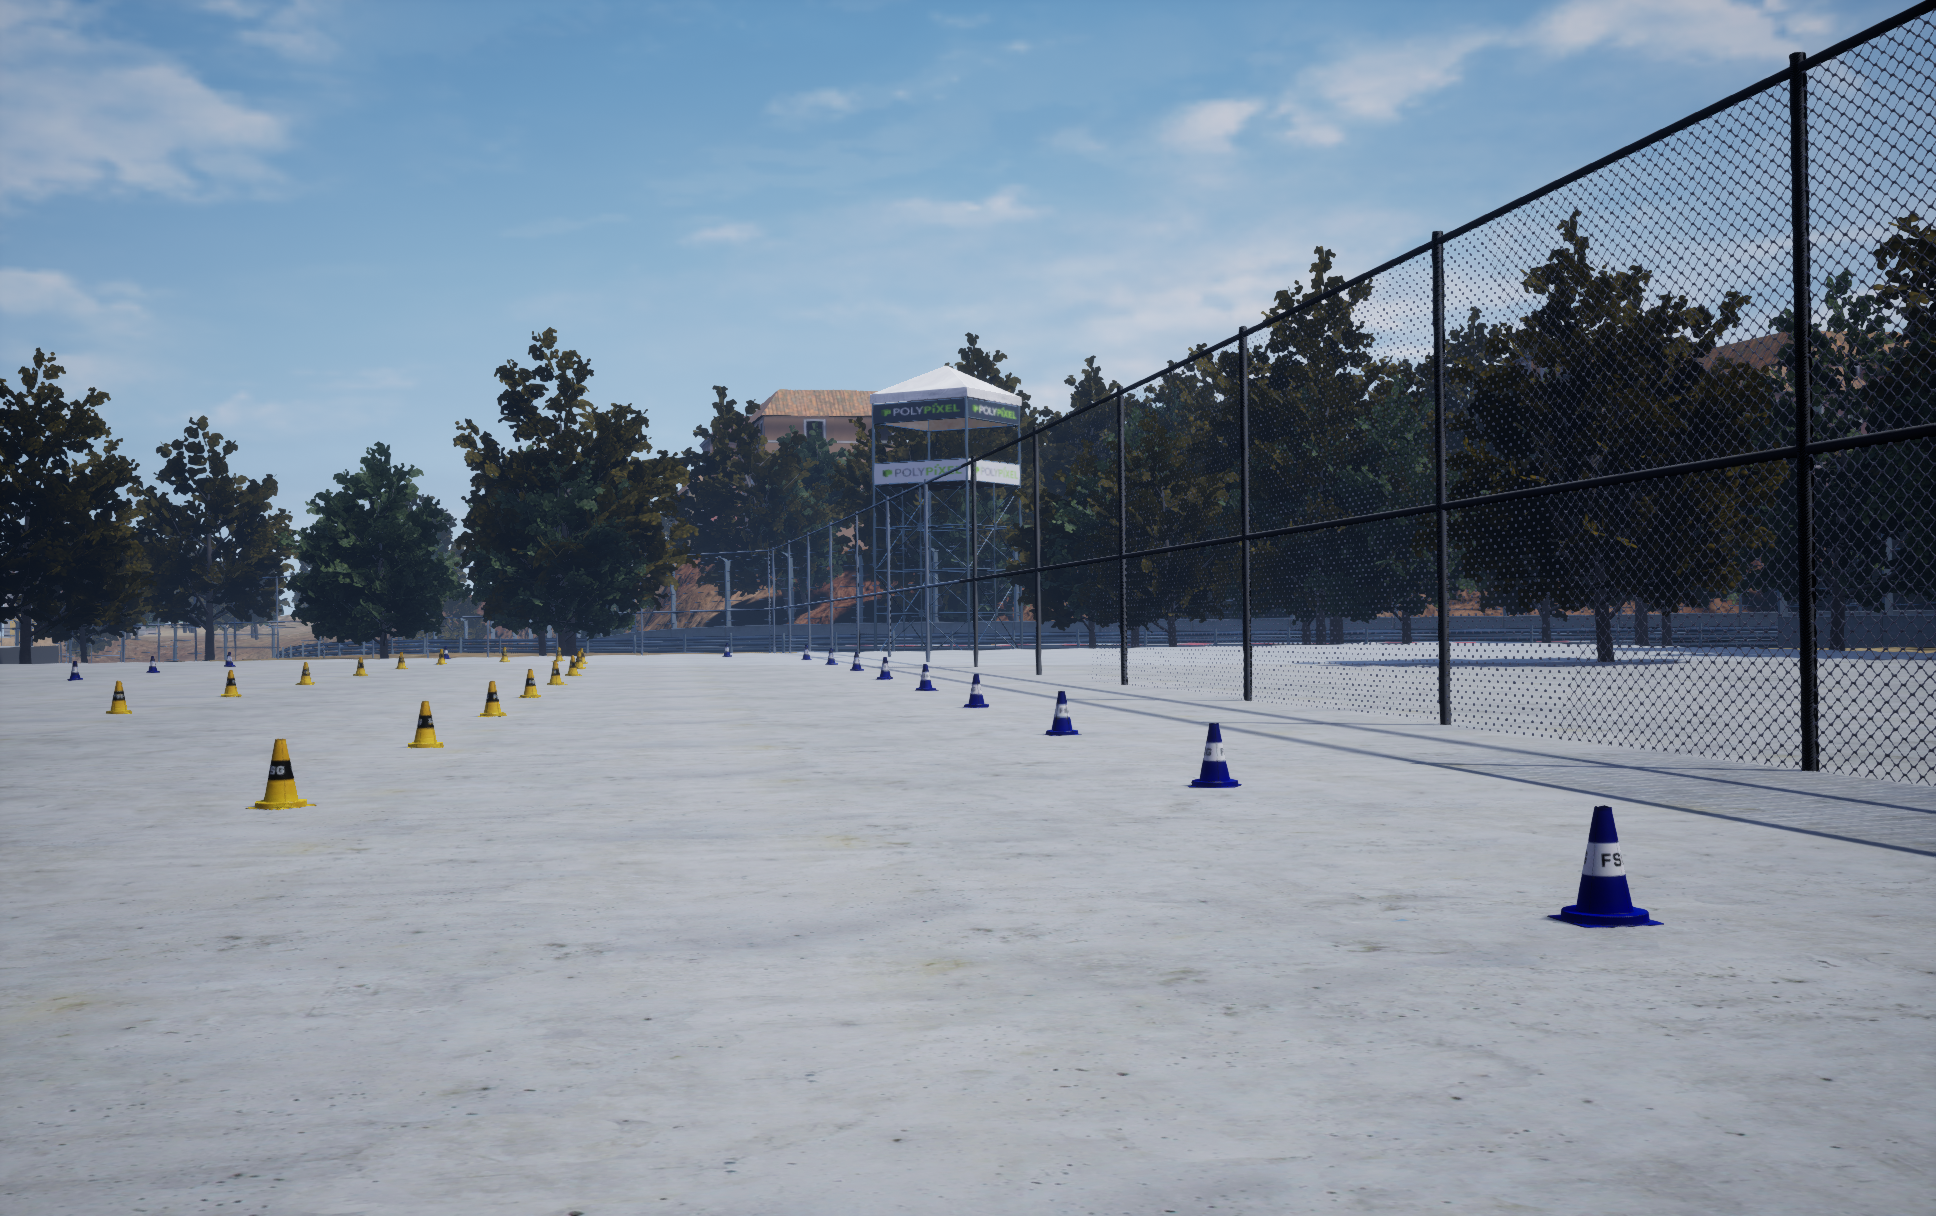blue: (245, 740, 317, 808), (408, 700, 443, 747), (478, 681, 506, 716), (106, 681, 132, 713), (518, 670, 539, 698), (221, 670, 241, 696), (546, 661, 567, 684), (296, 663, 314, 684), (565, 656, 581, 675), (353, 657, 367, 675)
yellow: (1547, 806, 1663, 927), (1188, 723, 1241, 787), (1044, 691, 1081, 735), (962, 674, 988, 707), (915, 664, 939, 691), (876, 657, 892, 679), (67, 661, 83, 679), (850, 651, 863, 670)
